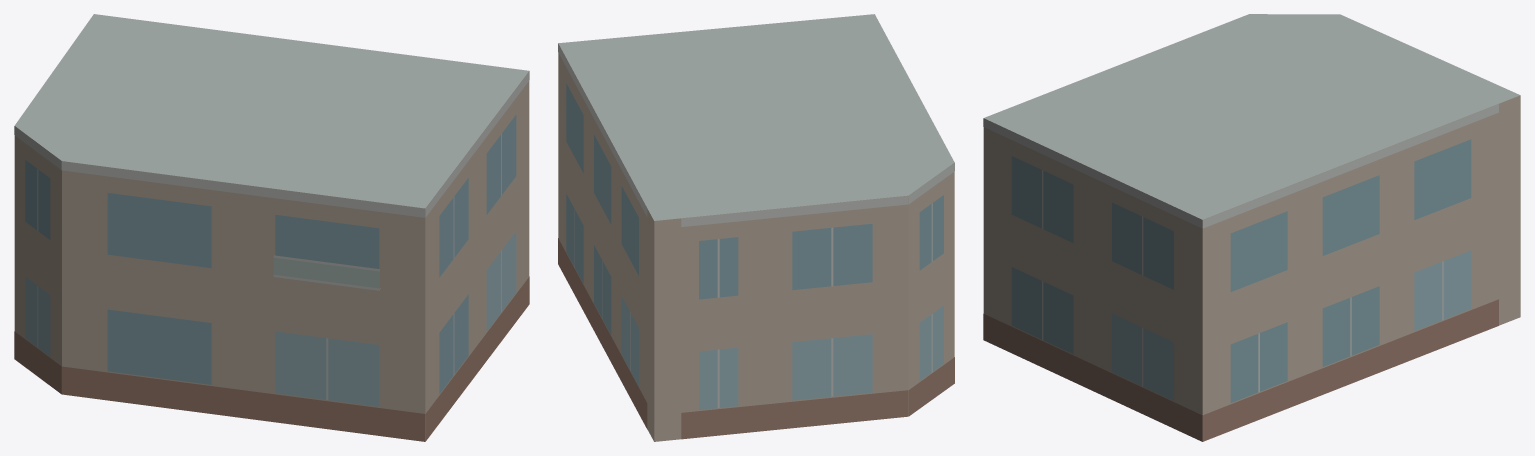
File: survey-upis-32961721.glb
The picture shows the model from 3 angles, left to right: view 1: azimuth 30°, elevation 25°; view 2: azimuth 150°, elevation 25°; view 3: azimuth 270°, elevation 25°; orthographic projection. The views are drawn at different scales.
Parts seen in each view (by area): view 1: survey-upis-32961721.tmp; view 2: survey-upis-32961721.tmp; view 3: survey-upis-32961721.tmp.
Part boxes in pixels (box(x1,y1,x2,y2)): survey-upis-32961721.tmp: box(14, 14, 529, 441); survey-upis-32961721.tmp: box(558, 14, 954, 441); survey-upis-32961721.tmp: box(983, 14, 1520, 441).
Bounding box in the file's own units: 12.13 × 6.1 × 13.38.
